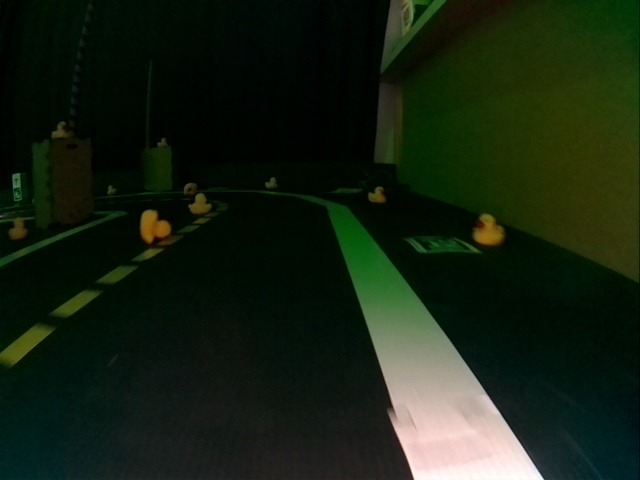Duckie: (474, 213, 503, 245), (144, 208, 171, 241), (188, 196, 210, 212), (11, 218, 27, 240), (368, 187, 387, 204), (51, 121, 67, 139), (183, 182, 196, 192), (265, 176, 275, 185), (157, 138, 166, 146), (106, 184, 116, 191)
QR code: (405, 236, 483, 255)
